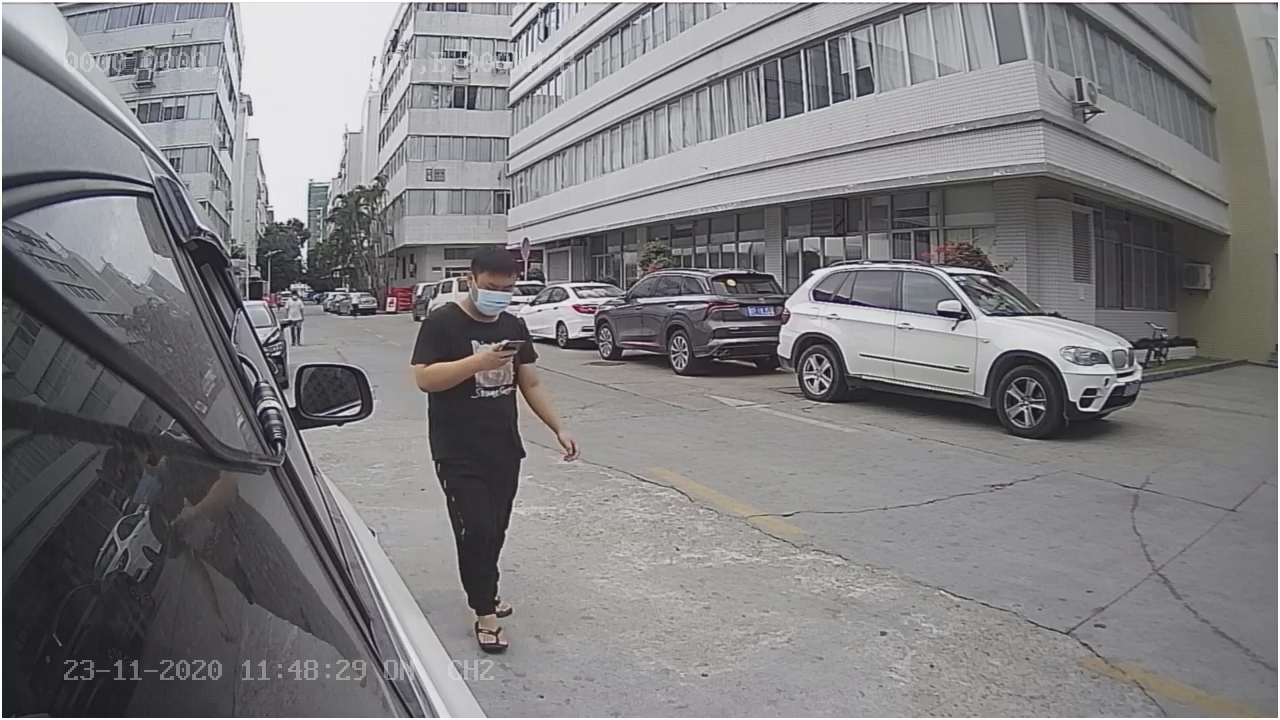person: (415, 246, 583, 463)
